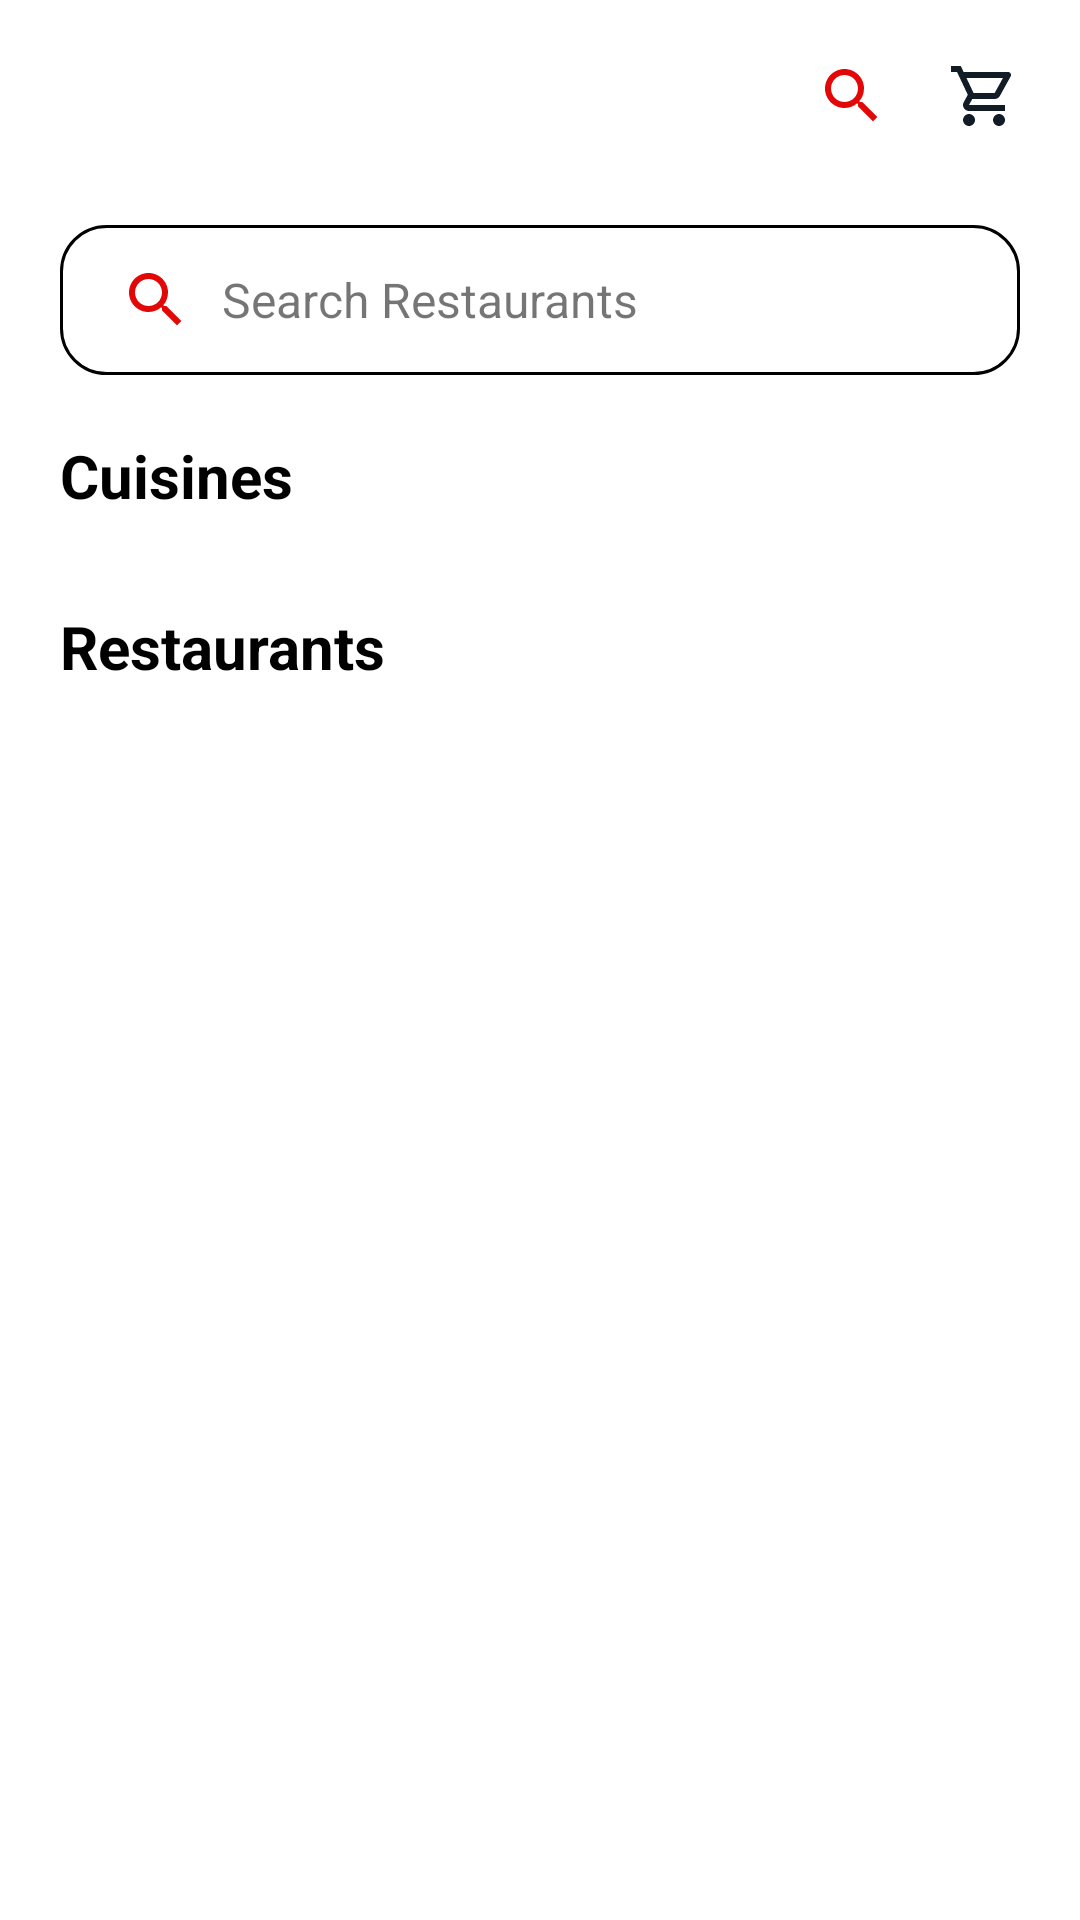

Named icons in this screenshot (1080×1920) and their bounding boxes, (x1, y1, x2, y2):
shopping cart: (951, 66, 1011, 126)
